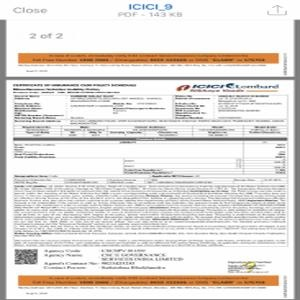image: (174, 82, 280, 95)
table: (12, 136, 288, 182), (13, 121, 289, 138)
text: (13, 183, 287, 237), (11, 93, 287, 120), (40, 249, 187, 271), (12, 80, 139, 94)
